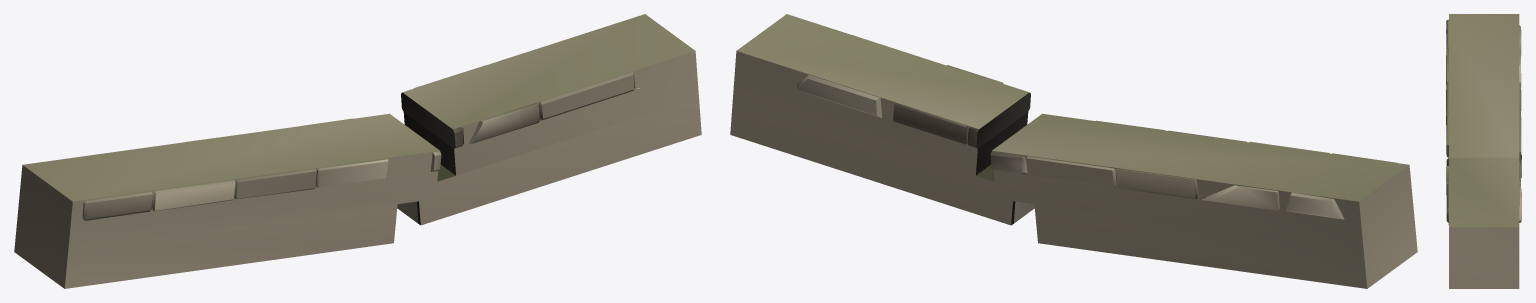
The model's file is street_lintel_cross_cracked.glb.
3 renders of one model, left to right at view 1: azimuth 30°, elevation 25°; view 2: azimuth 150°, elevation 25°; view 3: azimuth 270°, elevation 25°, orthographic. The views are drawn at different scales.
Visible parts, largest first — view 1: street_lintel_cross_cracked_far, street_lintel_cross_cracked; view 2: street_lintel_cross_cracked_far, street_lintel_cross_cracked; view 3: street_lintel_cross_cracked_far, street_lintel_cross_cracked.
Part boxes in pixels (<box>): street_lintel_cross_cracked_far: <box>14,14,701,288</box>; street_lintel_cross_cracked: <box>82,65,640,222</box>; street_lintel_cross_cracked_far: <box>730,14,1417,288</box>; street_lintel_cross_cracked: <box>796,35,1396,222</box>; street_lintel_cross_cracked_far: <box>1449,14,1519,288</box>; street_lintel_cross_cracked: <box>1446,19,1521,224</box>.
Size of the model in its own units: 23.34 by 4.2 by 3.45.
